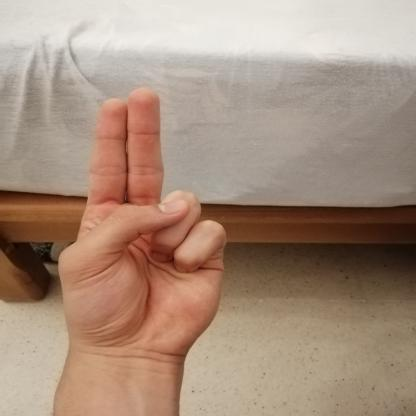TA: (36, 74, 241, 372)
